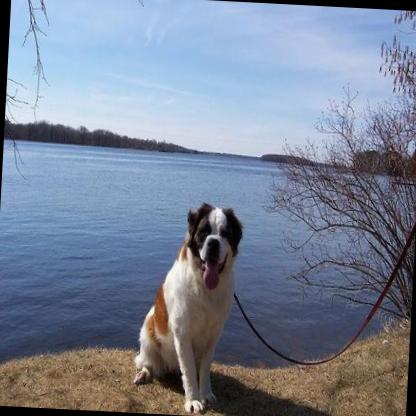Saint_Bernard: (128, 194, 246, 414)
